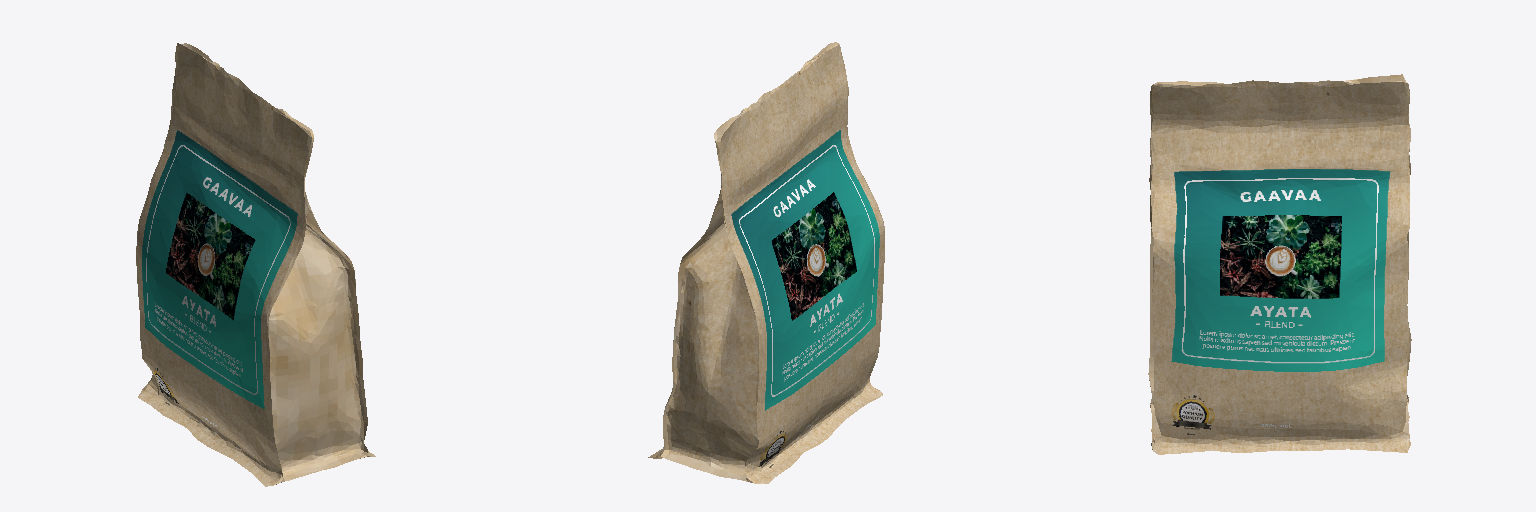
3 views of the same model, side by side, from view 1: azimuth 30°, elevation 25°; view 2: azimuth 150°, elevation 25°; view 3: azimuth 270°, elevation 25° (orthographic).
Parts seen in each view (by area): view 1: Lower:Group8303; view 2: Lower:Group8303; view 3: Lower:Group8303.
Part boxes in pixels (x1,y1,x2,y2): Lower:Group8303: (136,43,375,486); Lower:Group8303: (648,42,884,483); Lower:Group8303: (1148,74,1411,454).
Size of the model in its own units: 4.93 by 13.77 by 9.49.
1 materials, 1 textured.